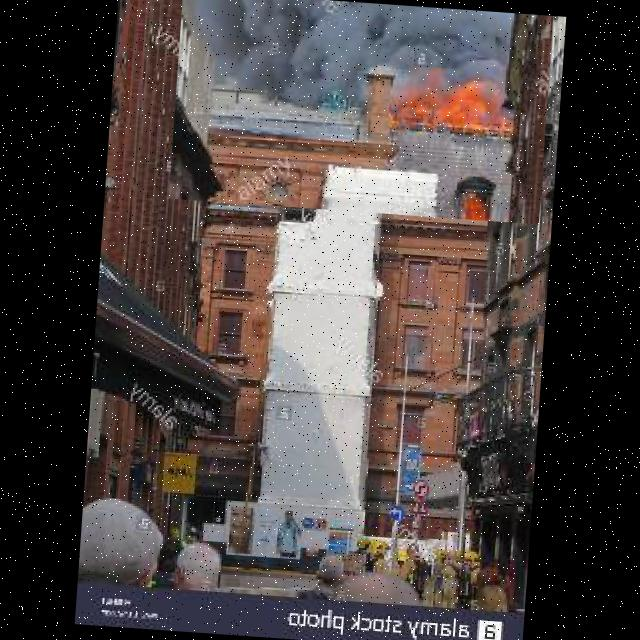fire: (168, 0, 553, 224)
